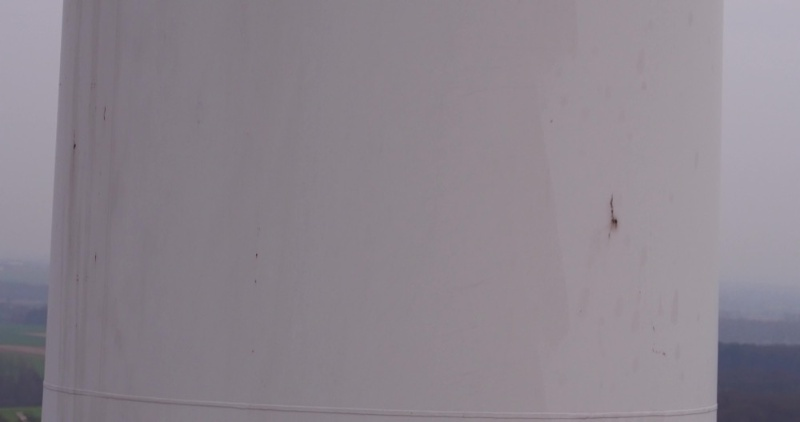weldseam: (39, 375, 723, 422)
